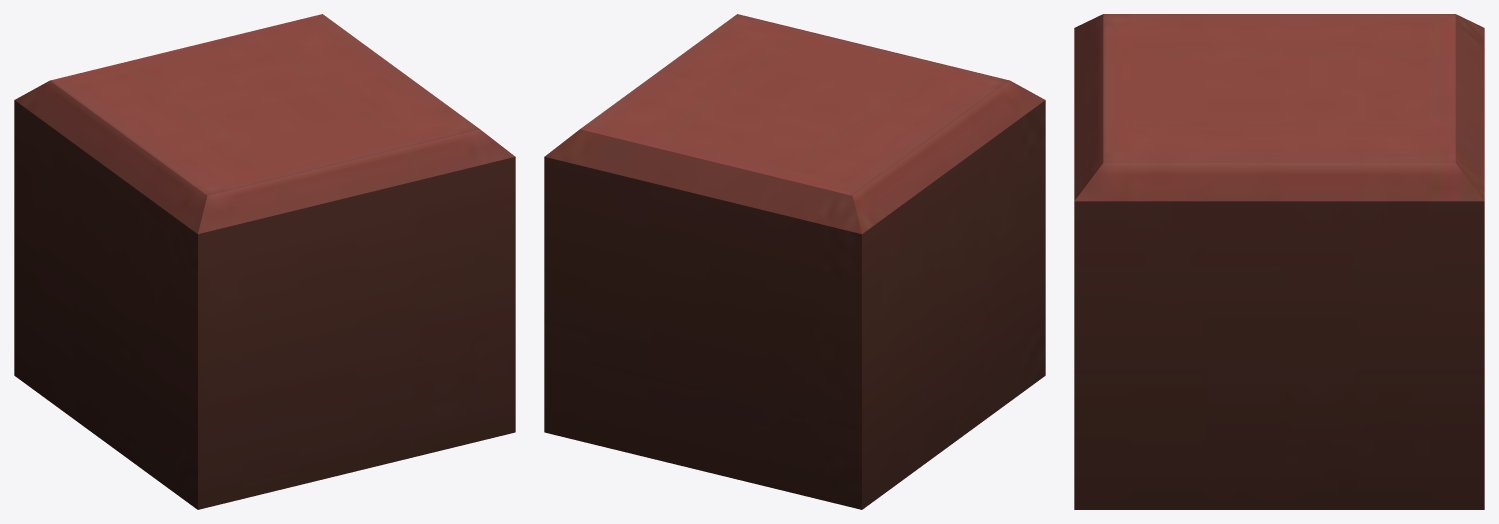
File: explosives.glb
3 views of the same model, side by side, from view 1: azimuth 30°, elevation 25°; view 2: azimuth 150°, elevation 25°; view 3: azimuth 270°, elevation 25° (orthographic). The views are drawn at different scales.
Parts seen in each view (by area): view 1: explosives; view 2: explosives; view 3: explosives.
Part boxes in pixels (<box>): explosives: <box>14,14,515,509</box>; explosives: <box>544,14,1045,509</box>; explosives: <box>1074,14,1484,509</box>.
Size of the model in its own units: 0.17 by 0.153 by 0.17.
Materials: 1 (1 with a texture image).
